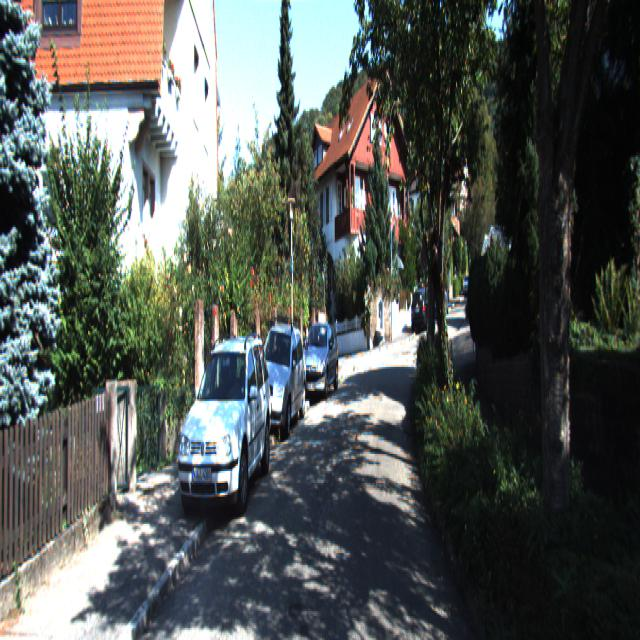Car: (175, 322, 273, 528), (252, 317, 307, 442), (299, 316, 339, 403), (411, 288, 434, 334)
